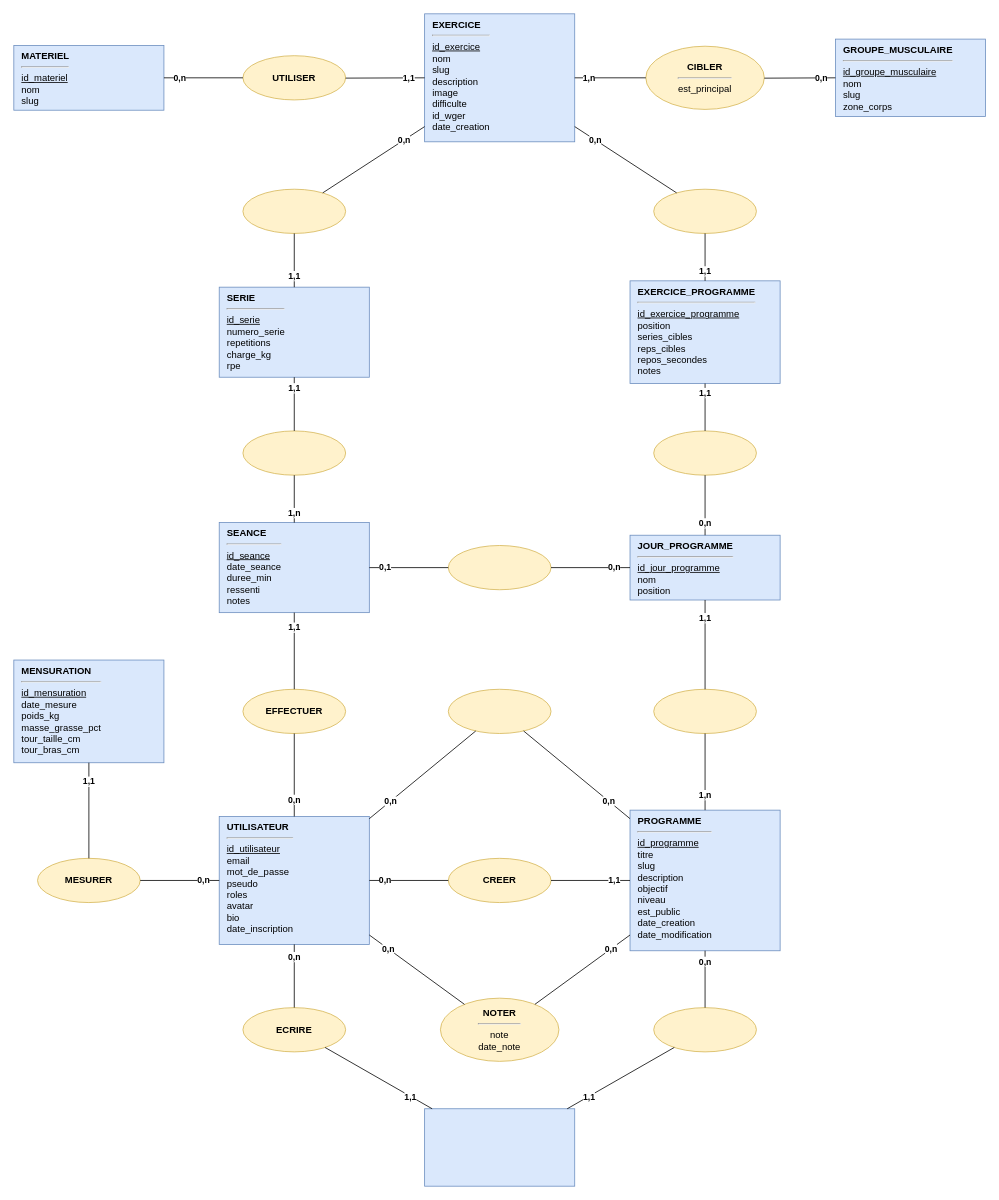
Image size: 999x1200. Some labels were removed from this diagram. The shapes that lost their labels are listed below. From the top down, each one's centre as x and y in pixels, then its label:
At point (294, 210): "CONCERNER".
At point (704, 210): "CORRESPONDRE".
At point (294, 452): "COMPOSER".
At point (704, 452): "PLANIFIER".
At point (499, 567): "SUIVRE".
At point (499, 711): "FAVORI".
At point (704, 711): "CONTENIR".
At point (704, 1029): "RECEVOIR".
At point (499, 1147): "COMMENTAIRE id_commentaire contenu date_creation est_masque".
